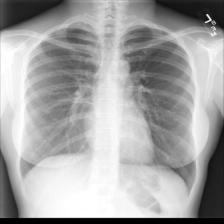normal: (17, 17, 200, 199)
